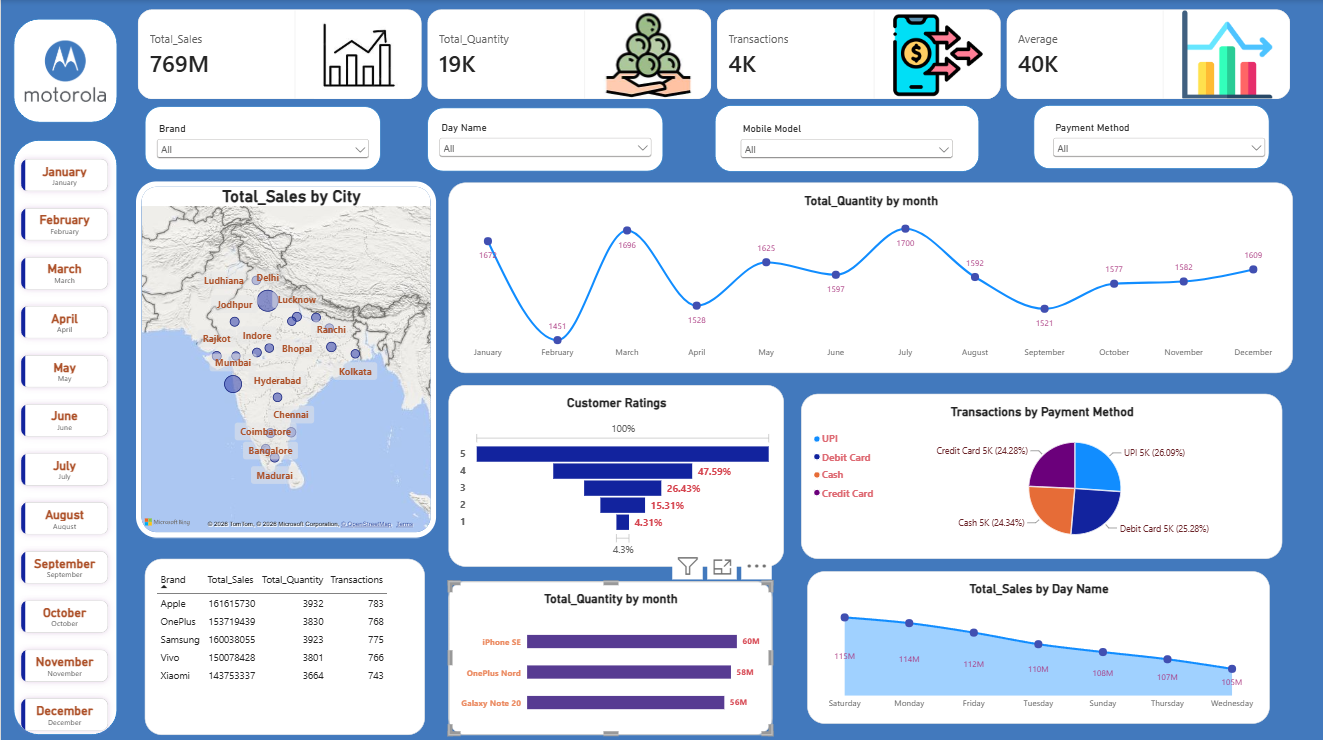

This screenshot's page, from the dashboard's own definition file:
{"tool":"powerbi","page":{"name":"Page 1","canvas":[1920,1080],"ordinal":0},"visuals":[{"type":"shape","box":[296.4,372.6,164.7,148.4],"z":0},{"type":"image","box":[767.8,263.5,106.8,117.6],"z":1000},{"type":"shape","box":[18.1,202.7,150.2,861.4],"z":2000},{"type":"advancedSlicerVisual","fields":{"Values":["Sales_Data.Date.Variation.Date Hierarchy.Month"],"Label":["Min(Sales_Data.Date.Variation.Date Hierarchy.Month)"]},"box":[18.1,219,148.4,861.4],"z":3000},{"type":"cardVisual","fields":{"Data":["Sales_Data.Total_Sales","Sales_Data.Total_Quantity","Sales_Data.Transactions","Sales_Data.Average"]},"box":[197.3,12.7,1673.9,132.1],"z":4000},{"type":"map","fields":{"Category":["Sales_Data.City"],"Size":["Sales_Data.Total_Sales"]},"box":[195.4,262.4,434.3,515.8],"z":5000},{"type":"lineChart","title":"Total_Quantity by month","fields":{"Y":["Sales_Data.Total_Quantity"],"Category":["Sales_Data.Date.Variation.Date Hierarchy.Month","Sales_Data.Date.Variation.Date Hierarchy.Day"]},"box":[647.9,264.2,1222.6,275.8],"z":6000},{"type":"clusteredBarChart","title":"Total_Quantity by month","fields":{"Category":["Sales_Data.Mobile Model"],"Y":["Sales_Data.Total_Sales"]},"box":[647.9,841.5,468.7,222.6],"z":7000},{"type":"pieChart","title":"Transactions by Payment Method","fields":{"Y":["Sales_Data.Total_Quantity"],"Category":["Sales_Data.Payment Method"]},"box":[1158.2,570,696.7,238.9],"z":8000},{"type":"funnel","title":"Customer Ratings ","fields":{"Category":["Sales_Data.Customer Ratings"],"Y":["Sum(Sales_Data.Customer Ratings)"]},"box":[647.9,557.4,485.8,263.5],"z":9000},{"type":"stackedAreaChart","title":"Total_Sales by Day Name","fields":{"Category":["Sales_Data.Day Name"],"Y":["Sales_Data.Total_Sales"]},"box":[1167.2,827,669.6,220.8],"z":10000},{"type":"tableEx","fields":{"Values":["Sales_Data.Brand","Sales_Data.Total_Sales","Sales_Data.Total_Quantity","Sales_Data.Transactions"]},"box":[208.1,808.9,405.4,255.2],"z":11000},{"type":"shape","box":[1033.3,152.3,382.8,96.7],"z":12000},{"type":"slicer","fields":{"Values":["Sales_Data.Mobile Model"]},"box":[1066.2,177,317,86.4],"z":13000},{"type":"shape","box":[207.9,154.4,341.7,92.6],"z":14000},{"type":"shape","box":[617.5,156.4,341.7,92.6],"z":15000},{"type":"shape","box":[1494.3,152.3,341.7,92.6],"z":16000},{"type":"slicer","fields":{"Values":["Sales_Data.Payment Method"]},"box":[1519,175,317,86.4],"z":17000},{"type":"slicer","fields":{"Values":["Sales_Data.Day Name"]},"box":[629.8,175,317,86.4],"z":18000},{"type":"slicer","fields":{"Values":["Sales_Data.Brand"]},"box":[220.2,177,317,86.4],"z":19000},{"type":"shape","box":[18.5,26.8,150.3,150.3],"z":20000},{"type":"image","box":[35,43.2,117.3,119.4],"z":21000}]}

Visuals, with their boxes in screenshot pixels (x1, y1, x2, y2), scaled from the page's 1920x1080 canvas onto the 1323x740 screenshot:
shape: (204,255,318,357)
image: (529,181,603,261)
shape: (12,139,116,729)
advancedSlicerVisual - Sales_Data.Date.Variation.Date Hierarchy.Month x Min(Sales_Data.Date.Variation.Date Hierarchy.Month): (12,150,115,739)
cardVisual - Sales_Data.Total_Sales x Sales_Data.Total_Quantity: (136,9,1289,99)
map - Sales_Data.City x Sales_Data.Total_Sales: (135,180,434,533)
"Total_Quantity by month" lineChart: (446,181,1289,370)
"Total_Quantity by month" clusteredBarChart: (446,577,769,729)
"Transactions by Payment Method" pieChart: (798,391,1278,554)
"Customer Ratings " funnel: (446,382,781,562)
"Total_Sales by Day Name" stackedAreaChart: (804,567,1266,718)
tableEx - Sales_Data.Brand x Sales_Data.Total_Sales: (143,554,423,729)
shape: (712,104,976,171)
slicer - Sales_Data.Mobile Model: (735,121,953,180)
shape: (143,106,379,169)
shape: (425,107,661,171)
shape: (1030,104,1265,168)
slicer - Sales_Data.Payment Method: (1047,120,1265,179)
slicer - Sales_Data.Day Name: (434,120,652,179)
slicer - Sales_Data.Brand: (152,121,370,180)
shape: (13,18,116,121)
image: (24,30,105,111)
